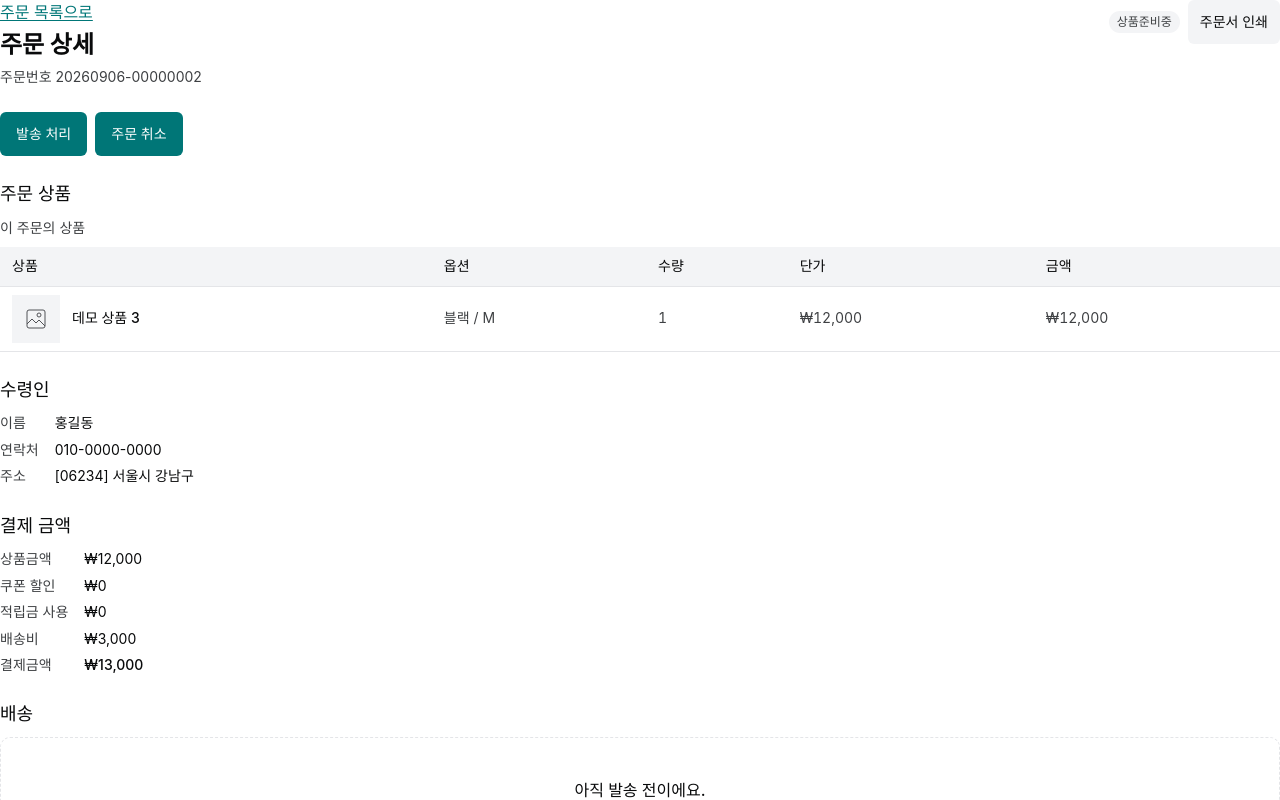
발송 처리 (F3 · F10) › shows the server’s refusal rather than a silent failure (U6)
The width and height of the screenshot is (1280, 800).
What coordinates should you click on to do the following:
click the button "발송 처리"
I would click on:
 (44, 134)
Its box is [0,112,87,156].
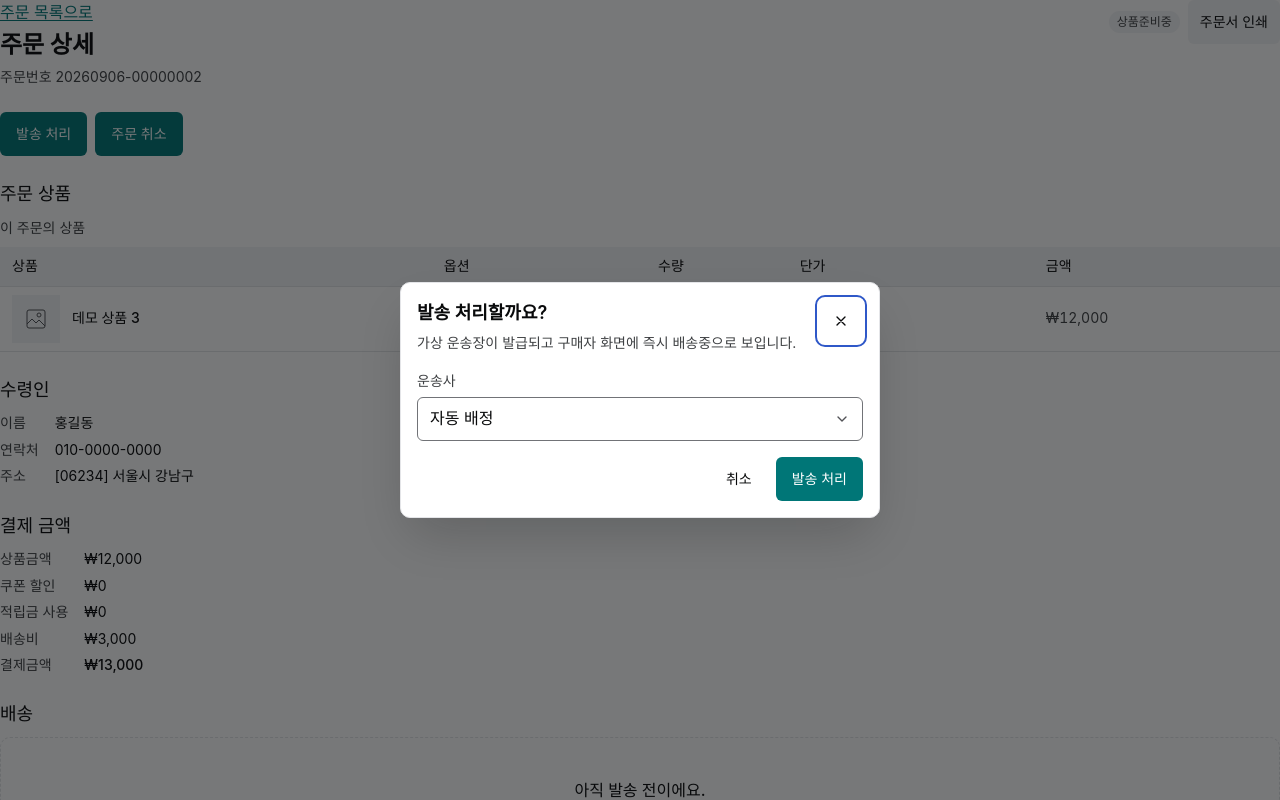
What coordinates should you click on to do the following:
click the button "발송 처리"
I would click on:
 (819, 479)
Its box is [776,457,863,501].
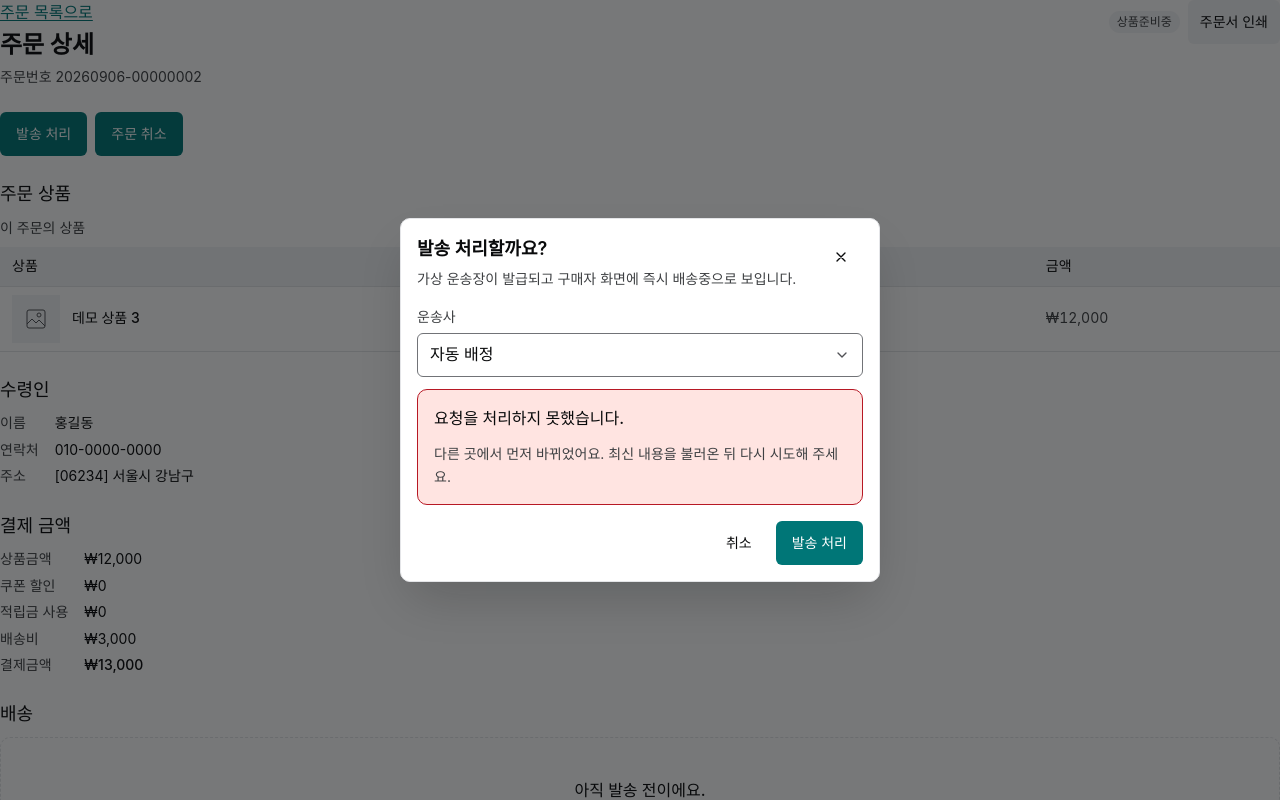
Result: the text "요청을 처리하지 못했습니다." is shown at [434,408,624,428]
